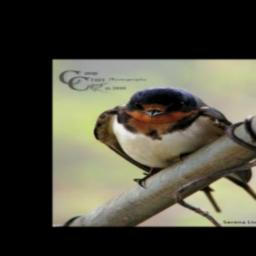Swallow: (93, 86, 256, 212)
